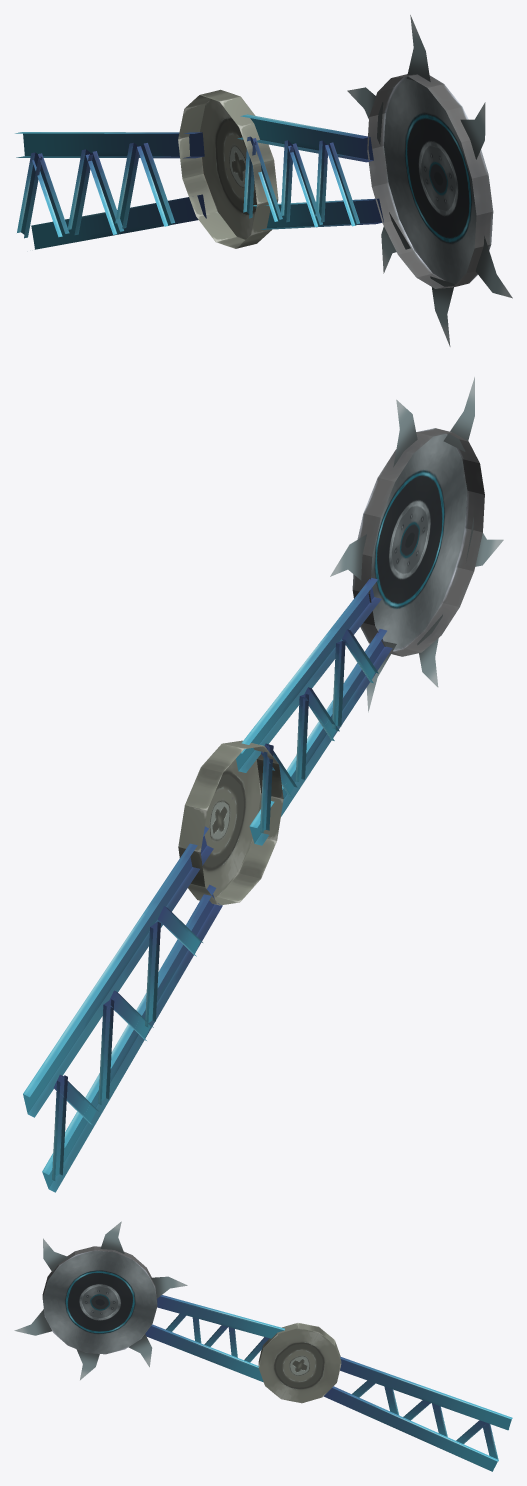
Rendered from rc_01_budA_13.FBX.
3 views of the same model, one above another, from view 1: azimuth 30°, elevation 25°; view 2: azimuth 150°, elevation 25°; view 3: azimuth 270°, elevation 25° (orthographic). The views are drawn at different scales.
Visible parts, largest first — view 1: 对象022, 对象021, 对象020; view 2: 对象022, 对象021, 对象020; view 3: 对象022, 对象021, 对象020.
Part boxes in pixels (x1=…): 对象022: x1=347, y1=15, x2=512, y2=346; 对象021: x1=178, y1=89, x2=383, y2=248; 对象020: x1=15, y1=132, x2=206, y2=249; 对象022: x1=330, y1=377, x2=503, y2=712; 对象021: x1=178, y1=578, x2=392, y2=905; 对象020: x1=23, y1=826, x2=222, y2=1192; 对象022: x1=14, y1=1221, x2=187, y2=1380; 对象021: x1=145, y1=1295, x2=341, y2=1403; 对象020: x1=323, y1=1356, x2=512, y2=1471.
Size of the model in its own units: 752 by 8371 by 14741.
